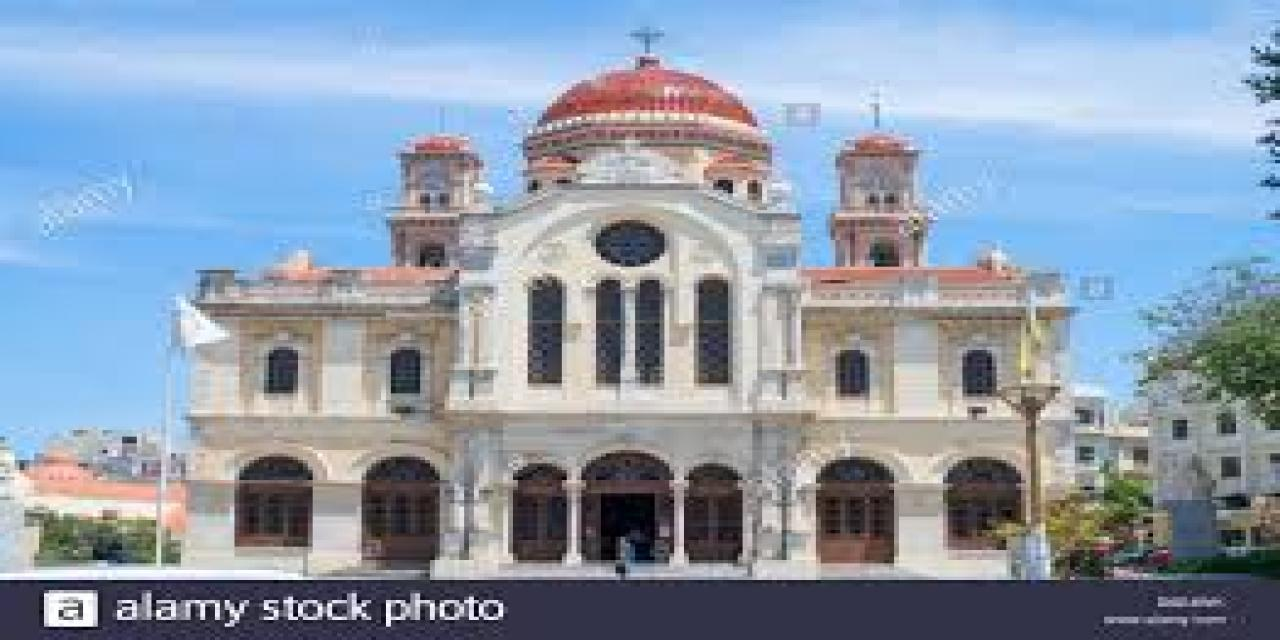Agios Minas: (186, 22, 1083, 578)
